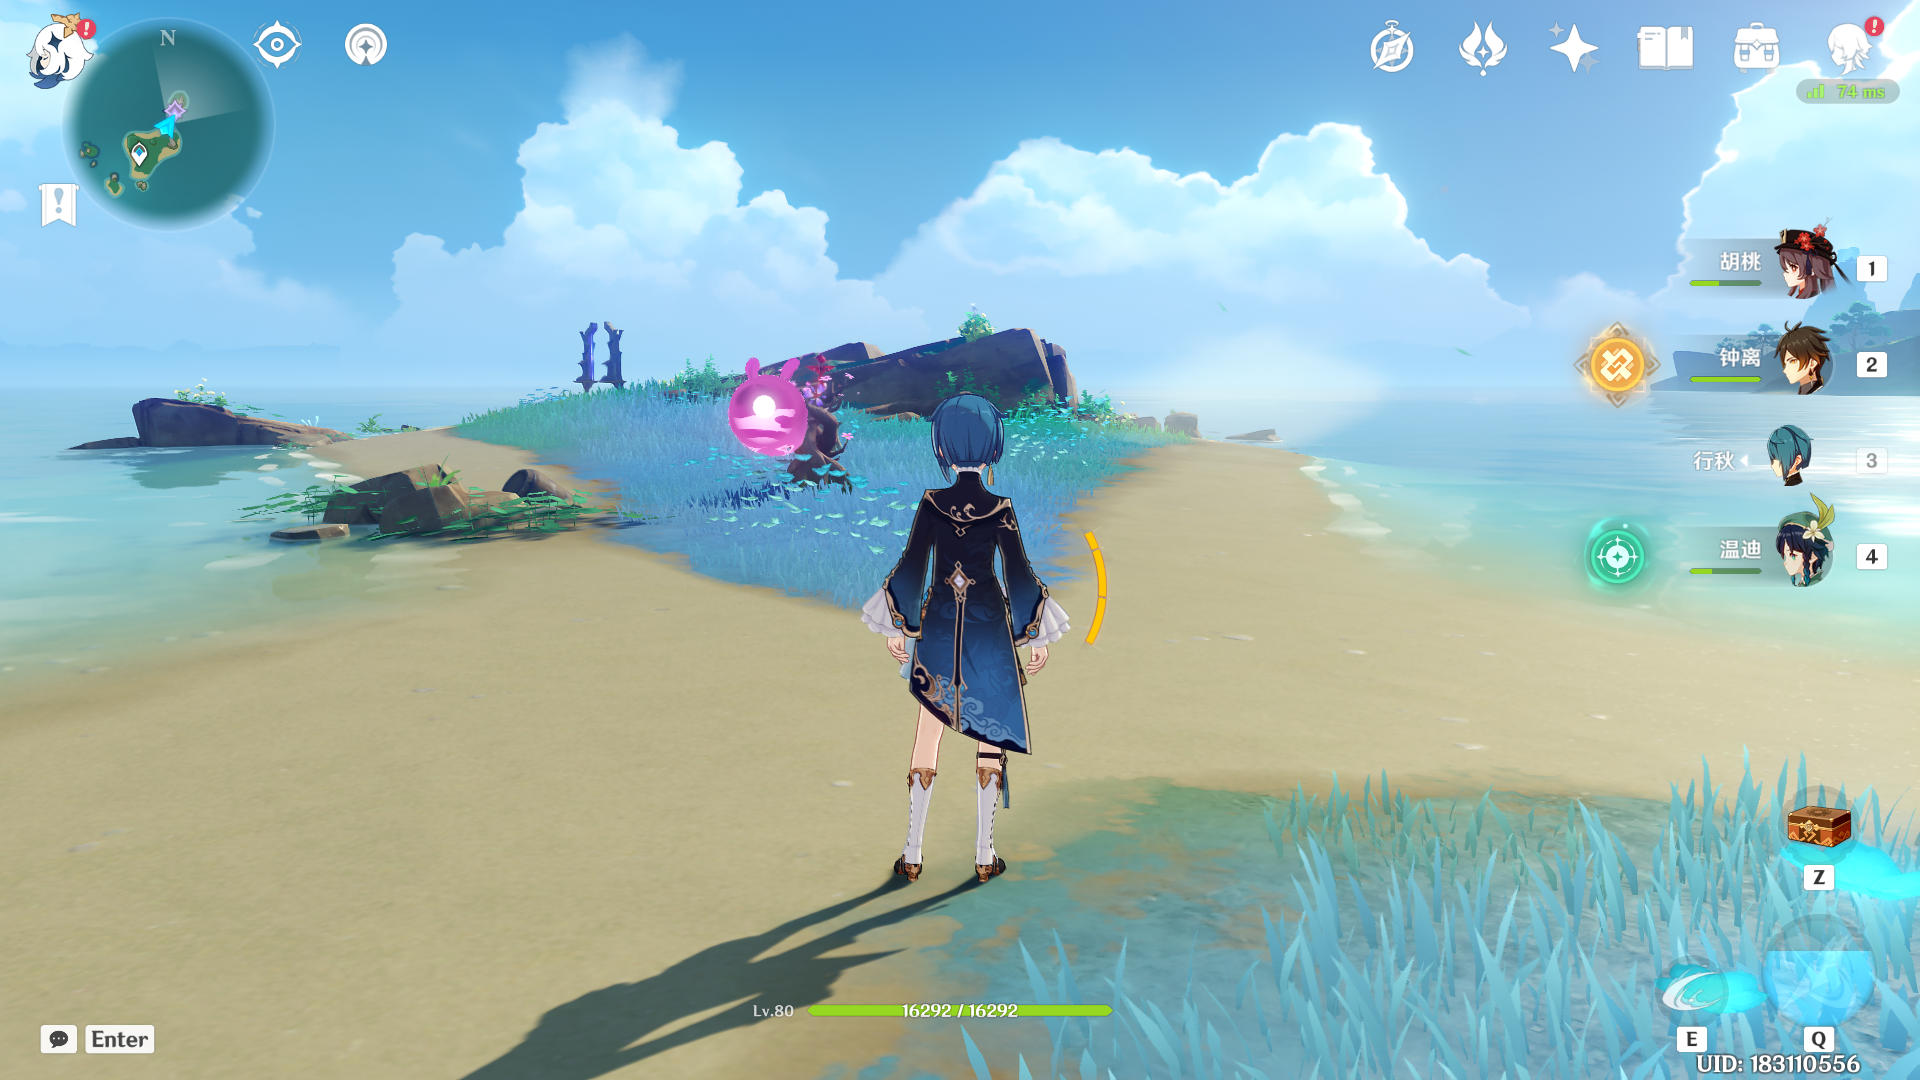character: (798, 345, 1100, 885)
